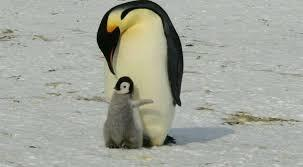emporer: (92, 0, 190, 158)
